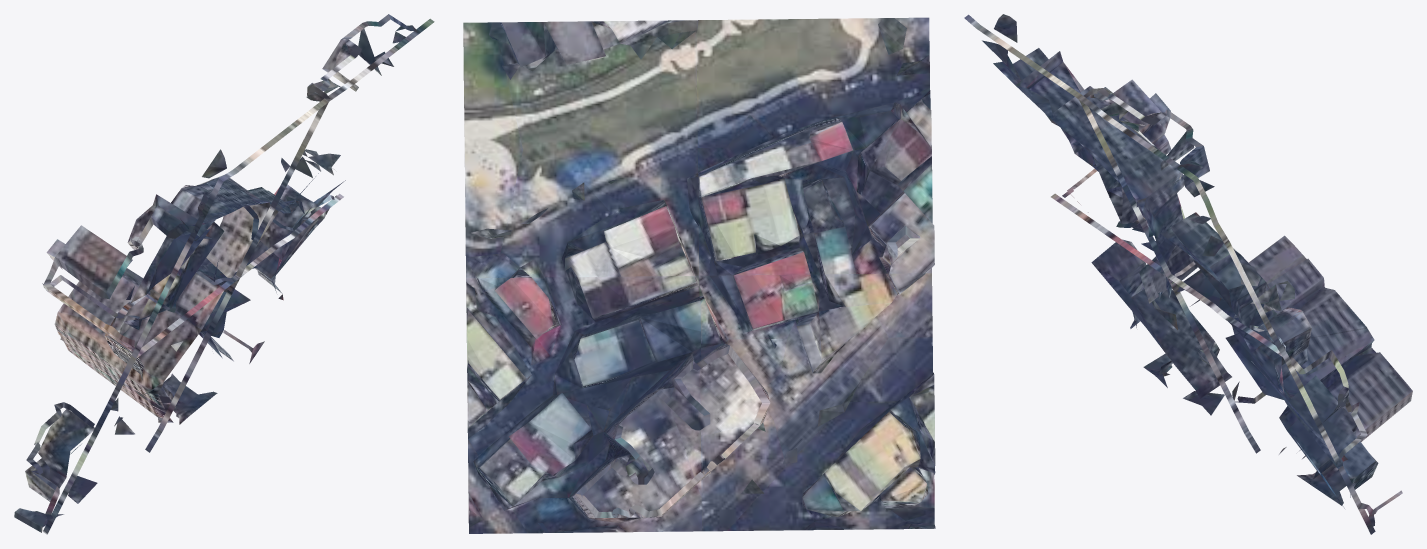
3 views of the same model, side by side, from view 1: azimuth 30°, elevation 25°; view 2: azimuth 150°, elevation 25°; view 3: azimuth 270°, elevation 25° (orthographic). The views are drawn at different scales.
Bounding box in the file's own units: 158 × 144 × 140.
Materials: 1 (1 with a texture image).
